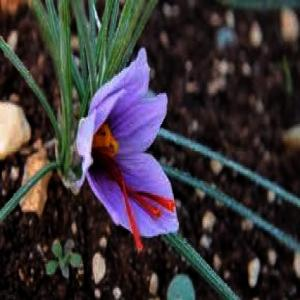Saffron: (71, 44, 181, 239)
